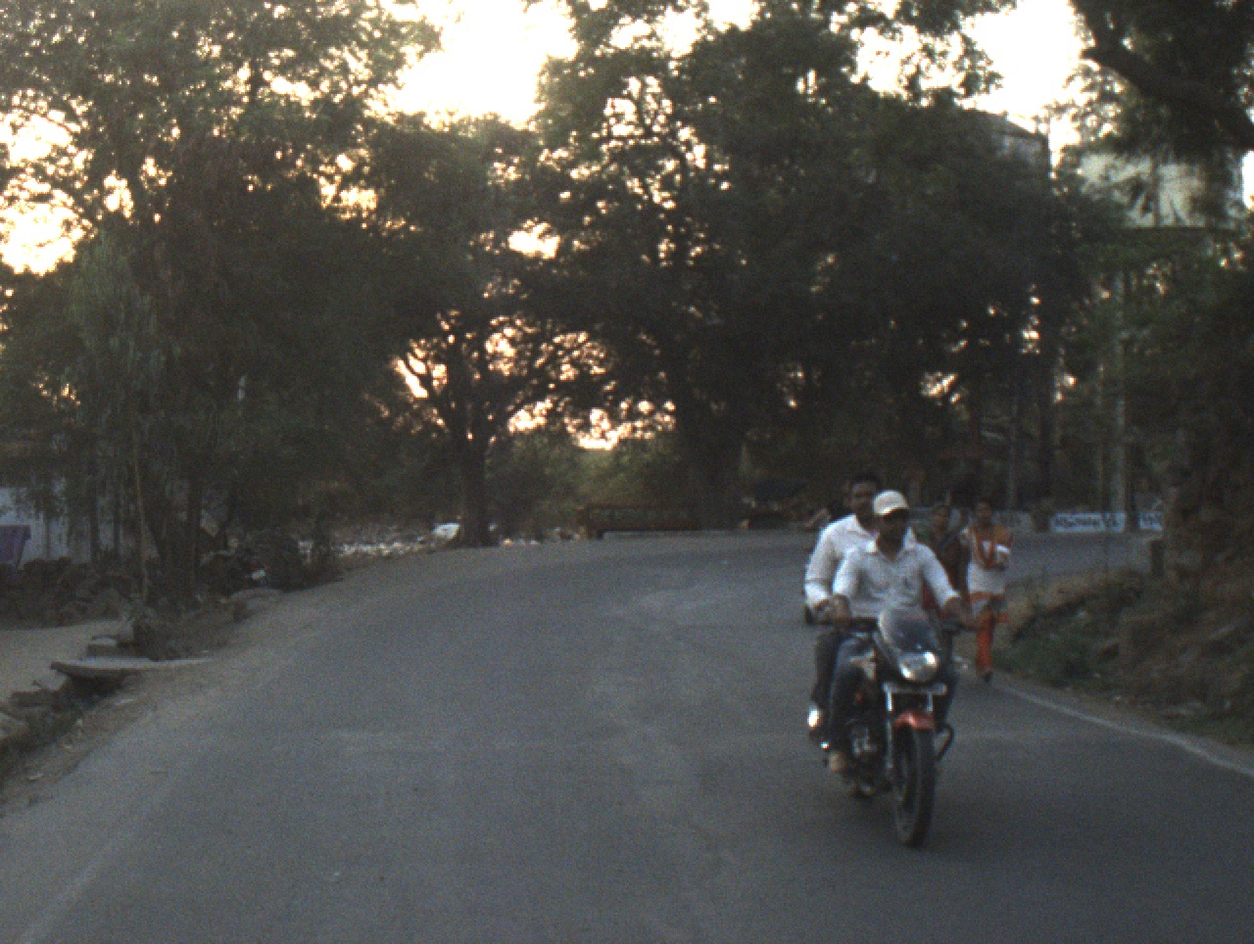motorcycle: (808, 608, 989, 853), (796, 522, 826, 626)
person: (964, 497, 1018, 688), (910, 500, 960, 684)
rider: (825, 485, 986, 783), (805, 465, 918, 747), (812, 485, 858, 518)
vehicle fallback: (576, 506, 694, 540)
